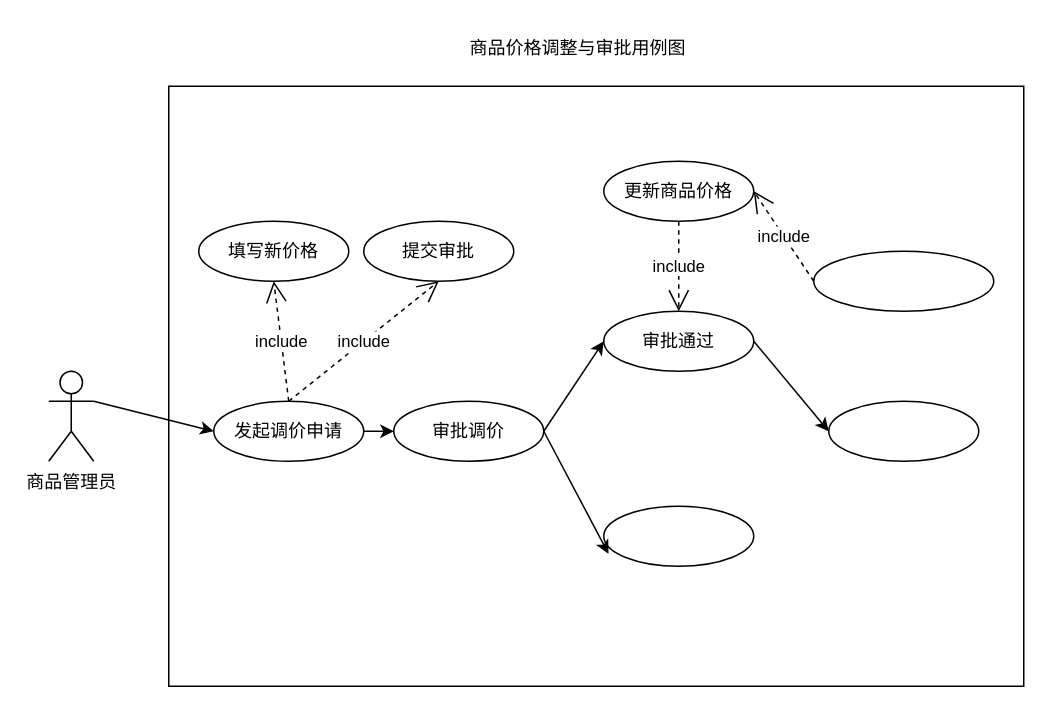
The diagram is 1050 pixels wide and 713 high, and some of its shapes have lost their labels. The centre of each missing label's shape, as x and y in pixels:
"同步线上/电子价签" belongs at pixel 903 280.
"审批拒绝" belongs at pixel 678 535.
"查询价格" belongs at pixel 903 430.
